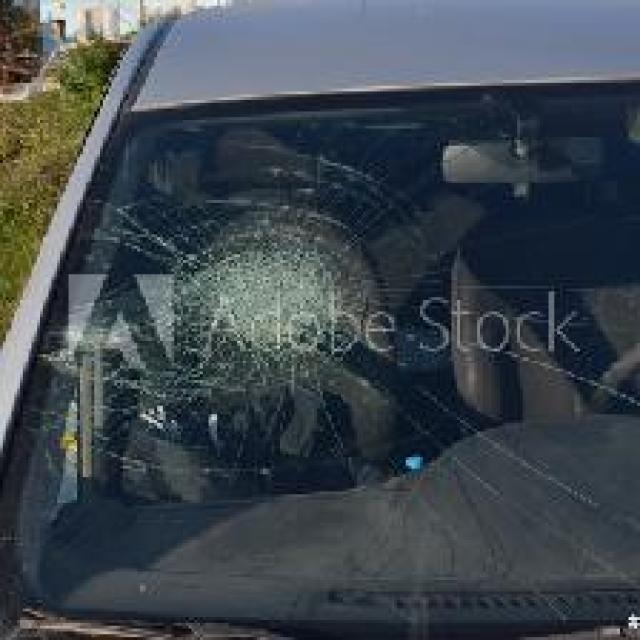Glass_Break: (171, 229, 371, 389)
